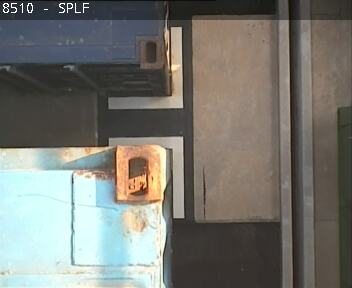groundmarker_1: (108, 24, 184, 218)
